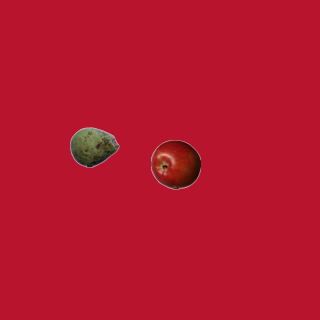Apple Braeburn: (150, 139, 200, 189)
Pear Stone: (69, 122, 119, 172)
